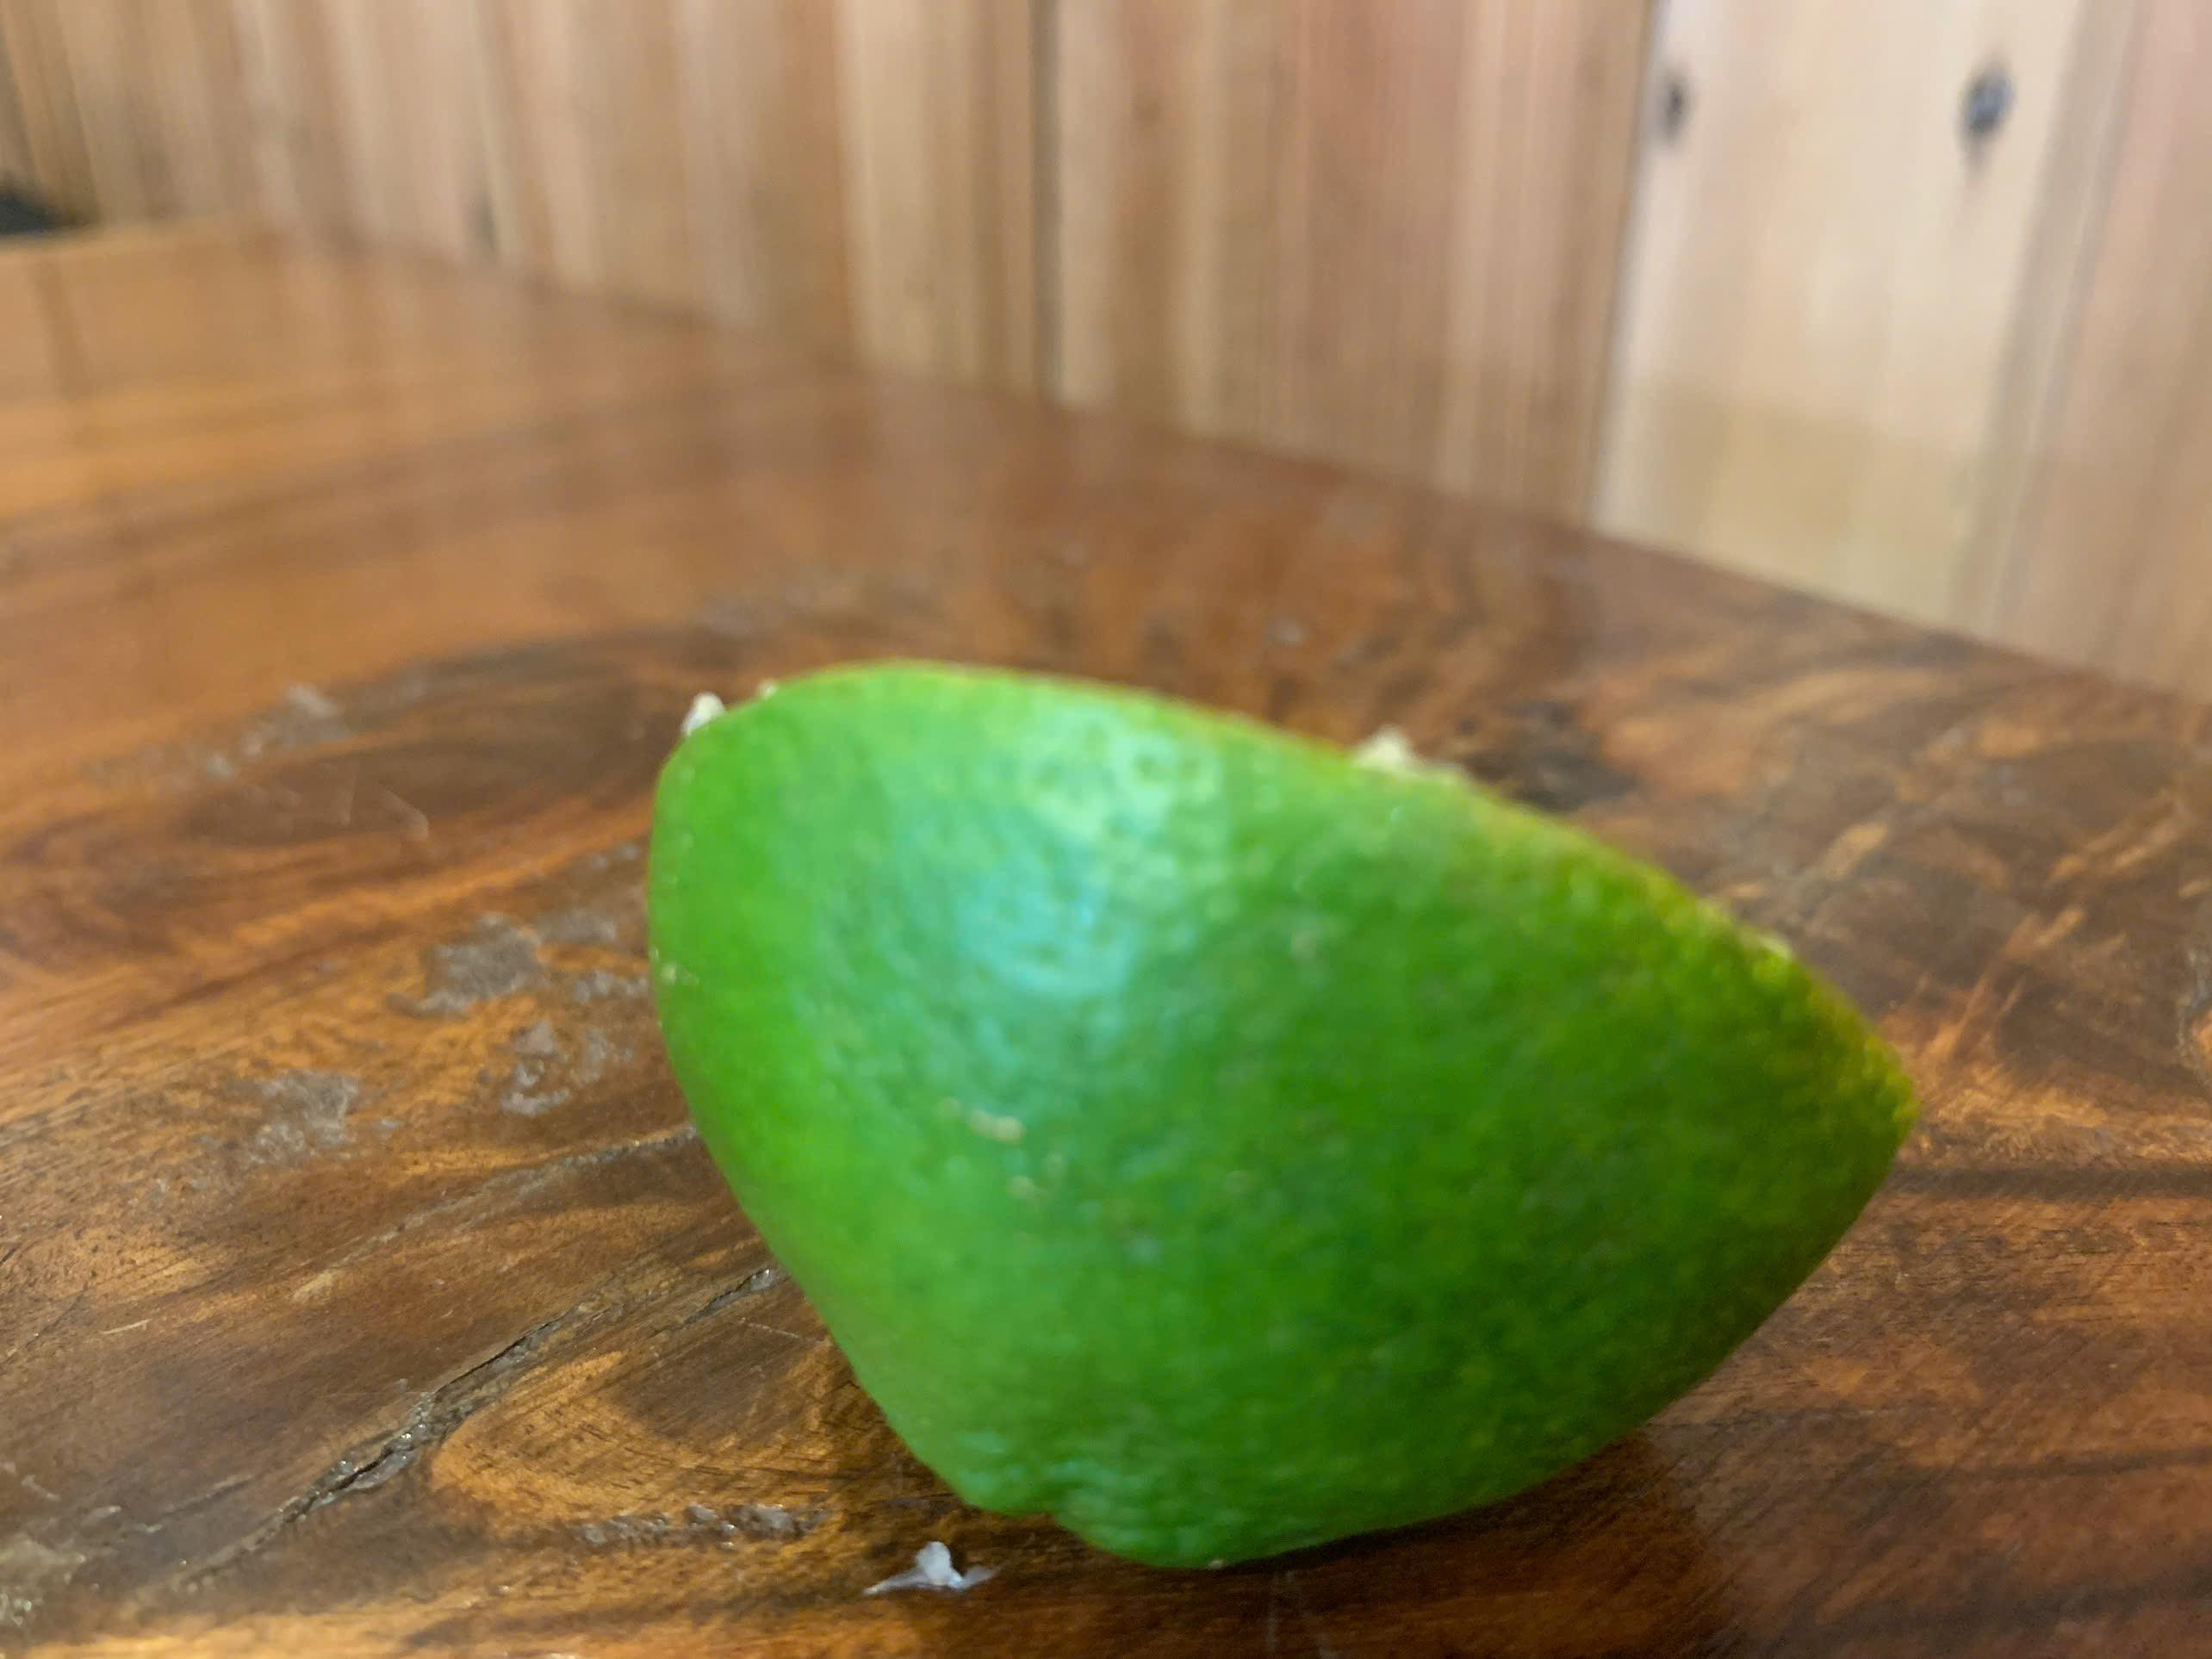Huu co: (655, 673, 1900, 1551)
